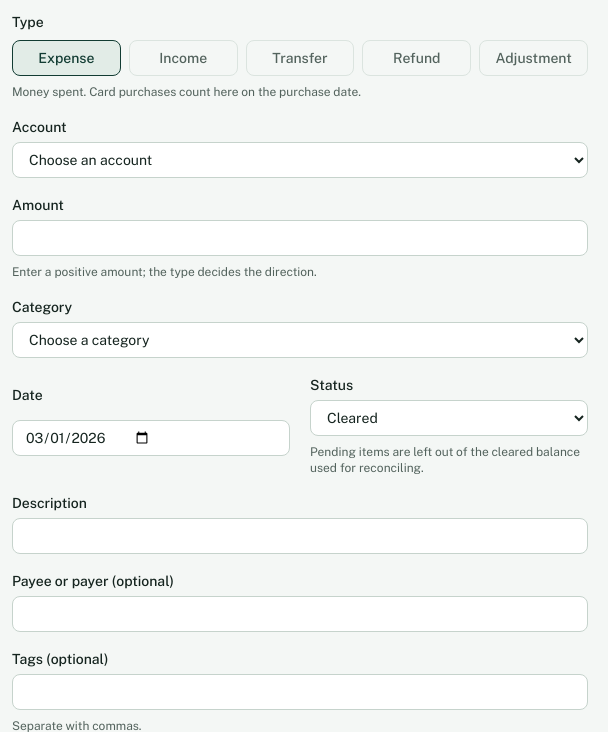
Test: TransactionForm › asks for the received amount only for cross-currency transfers
Click the radio button "Transfer" at (300, 58), box [246,40,354,76]
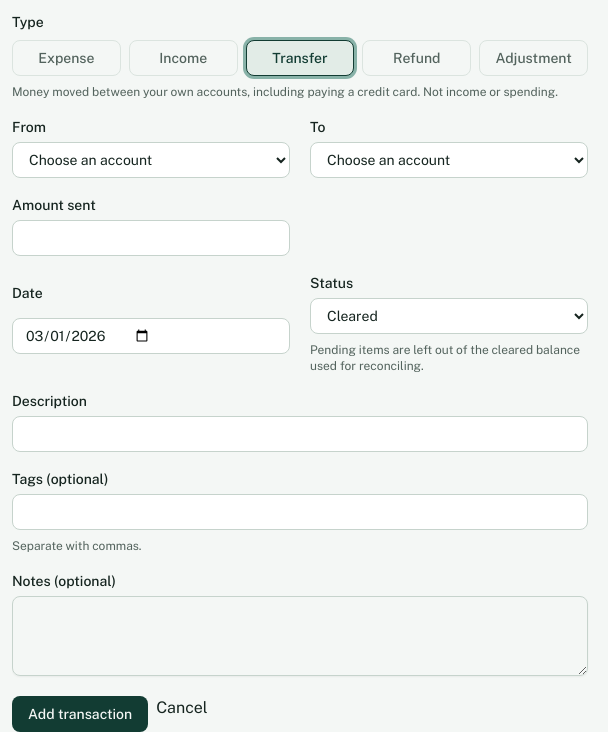
Select "Bank (PKR)" in the dropdown labelled "From" at (151, 160), box [12,142,290,178]
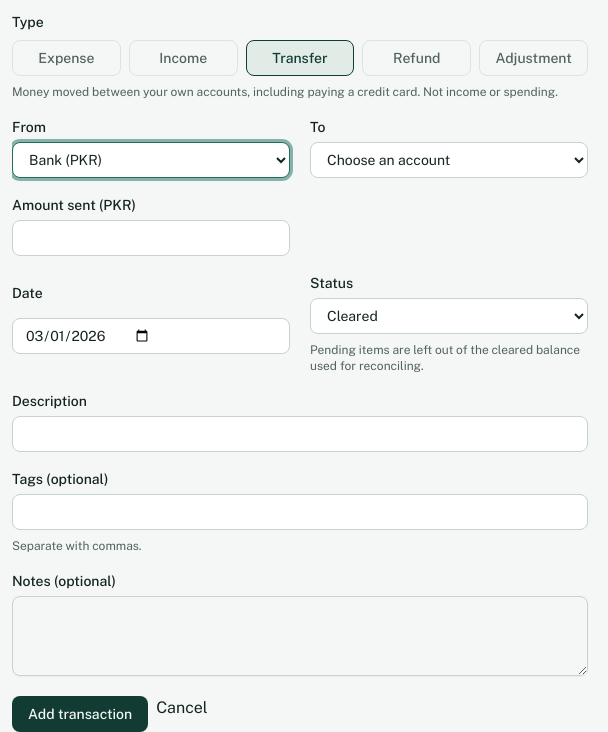
Select "Card (PKR)" in the dropdown labelled "To" at (449, 160), box [310,142,588,178]
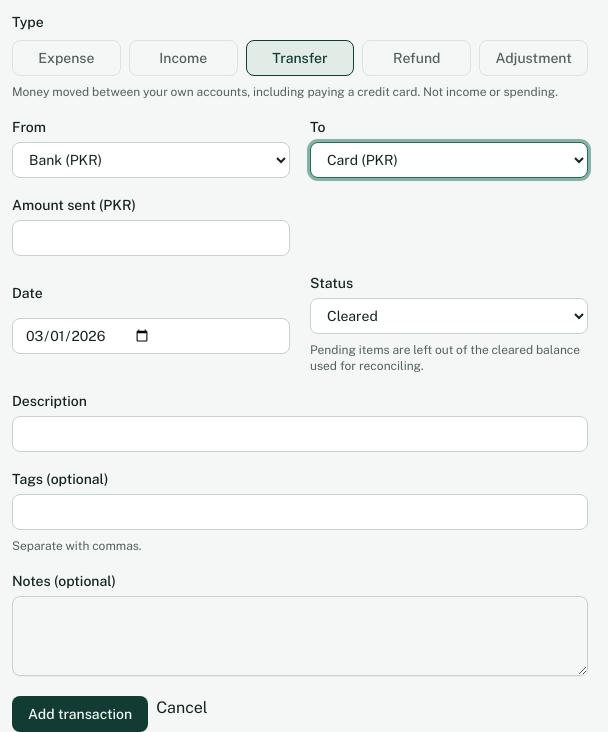
expect the field labelled "Amount received" is not shown: met
Select "Dollars (USD)" in the dropdown labelled "To" at (449, 160), box [310,142,588,178]
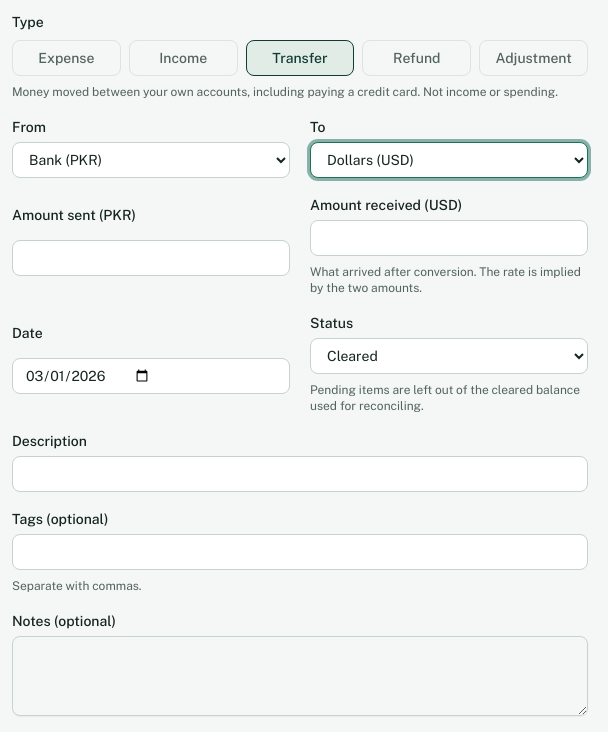
expect the label labelled "Category" is not shown: met
expect the field labelled "Amount received (USD)" is shown: met, box [310,220,588,256]
